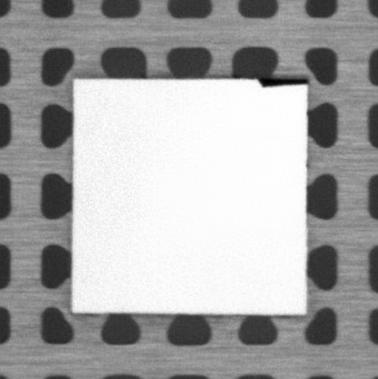DIE_BROKEN: (256, 75, 308, 88)
